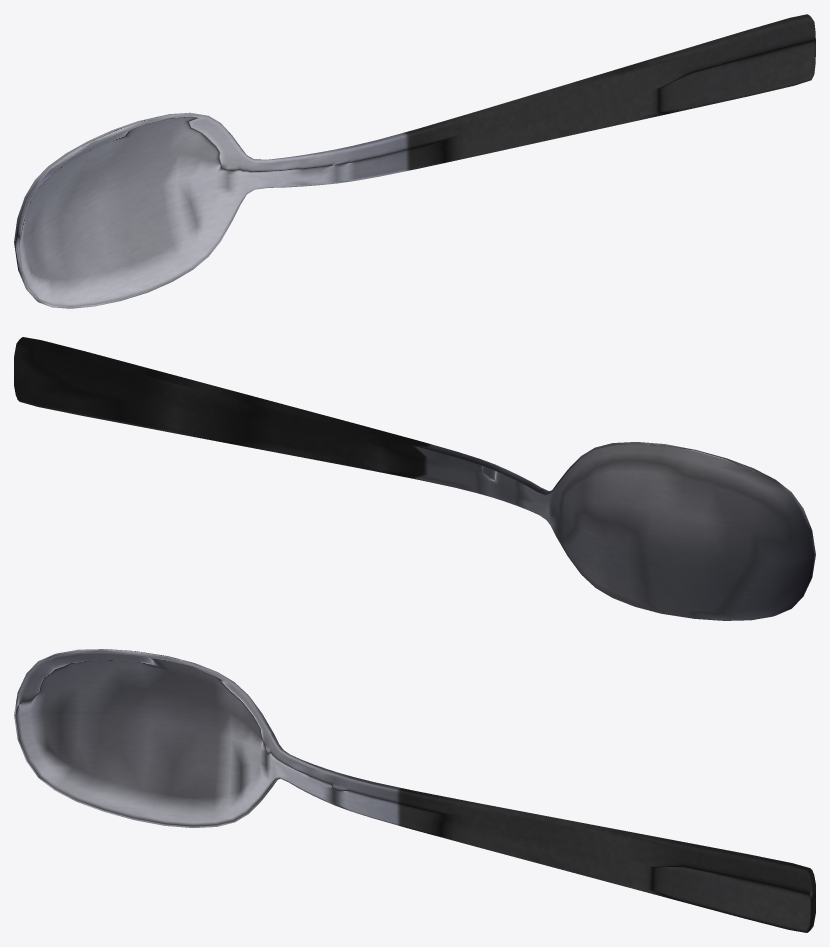
The model's file is spoon_1.obj.
The picture shows the model from 3 angles, top to bottom: view 1: azimuth 30°, elevation 25°; view 2: azimuth 150°, elevation 25°; view 3: azimuth 330°, elevation 25°; orthographic projection. The views are drawn at different scales.
Size of the model in its own units: 1.46 by 0.2983 by 0.1129.
1 material, 1 textured.
